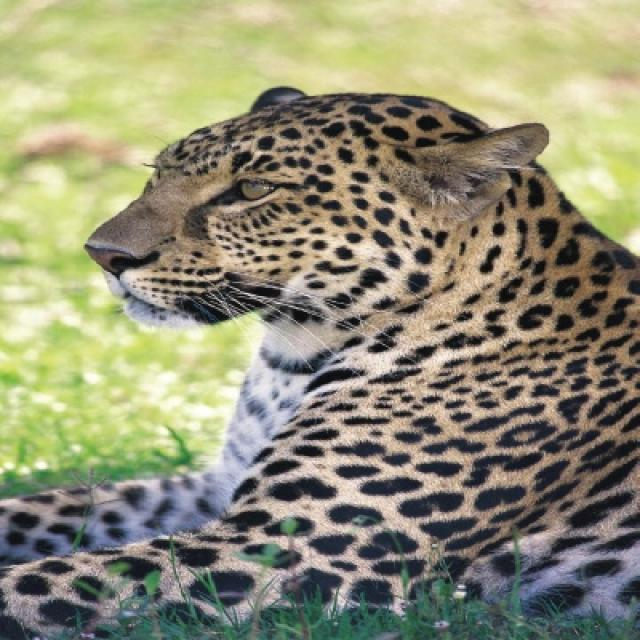Jaguar: (0, 86, 638, 638)
